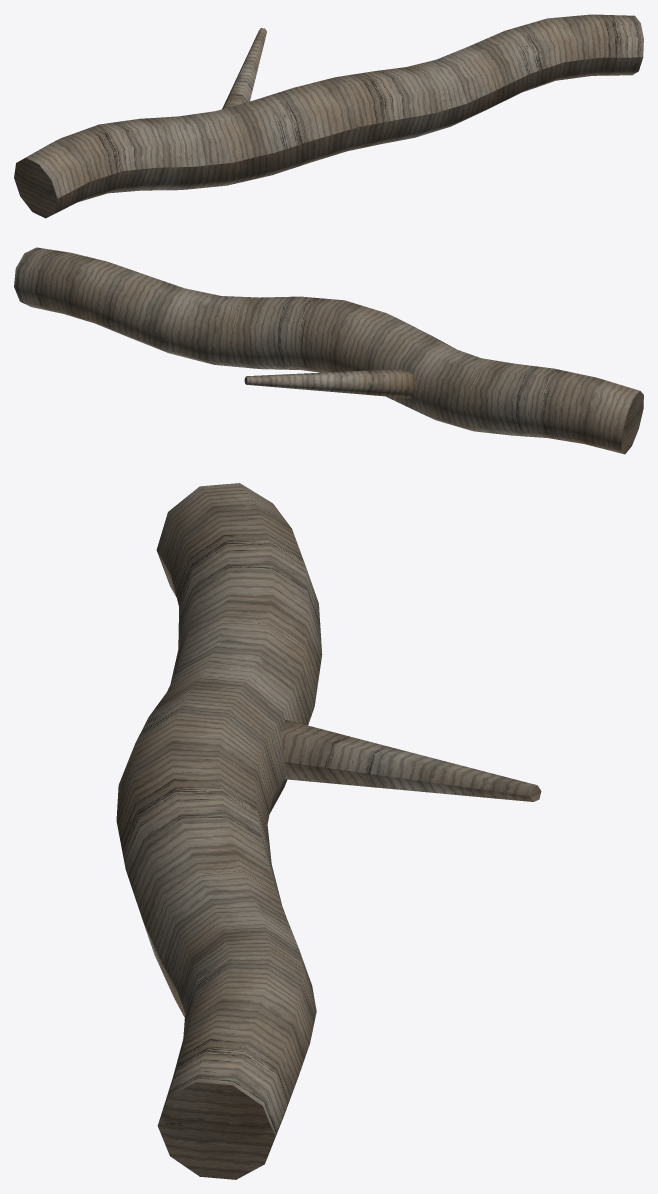
File: driftwood.glb
3 renders of one model, top to bottom at view 1: azimuth 30°, elevation 25°; view 2: azimuth 150°, elevation 25°; view 3: azimuth 270°, elevation 25°, orthographic. The views are drawn at different scales.
Parts seen in each view (by area): view 1: driftwood; view 2: driftwood; view 3: driftwood.
Boxes of the visible parts, x1,y1,x2,y2 form: driftwood: (14, 14, 643, 218); driftwood: (14, 247, 643, 454); driftwood: (116, 483, 541, 1179).
Bounding box in the file's own units: 2.86 × 0.3539 × 0.8633.
1 material, 1 textured.
